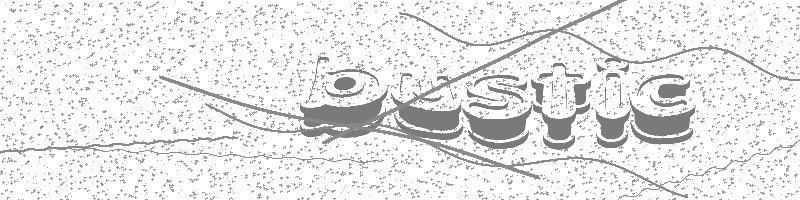b: (299, 55, 389, 138)
c: (632, 72, 697, 145)
i: (594, 57, 631, 149)
s: (465, 73, 532, 149)
t: (532, 62, 591, 150)
u: (391, 72, 464, 141)
